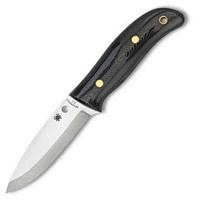knife: (4, 21, 157, 197)
